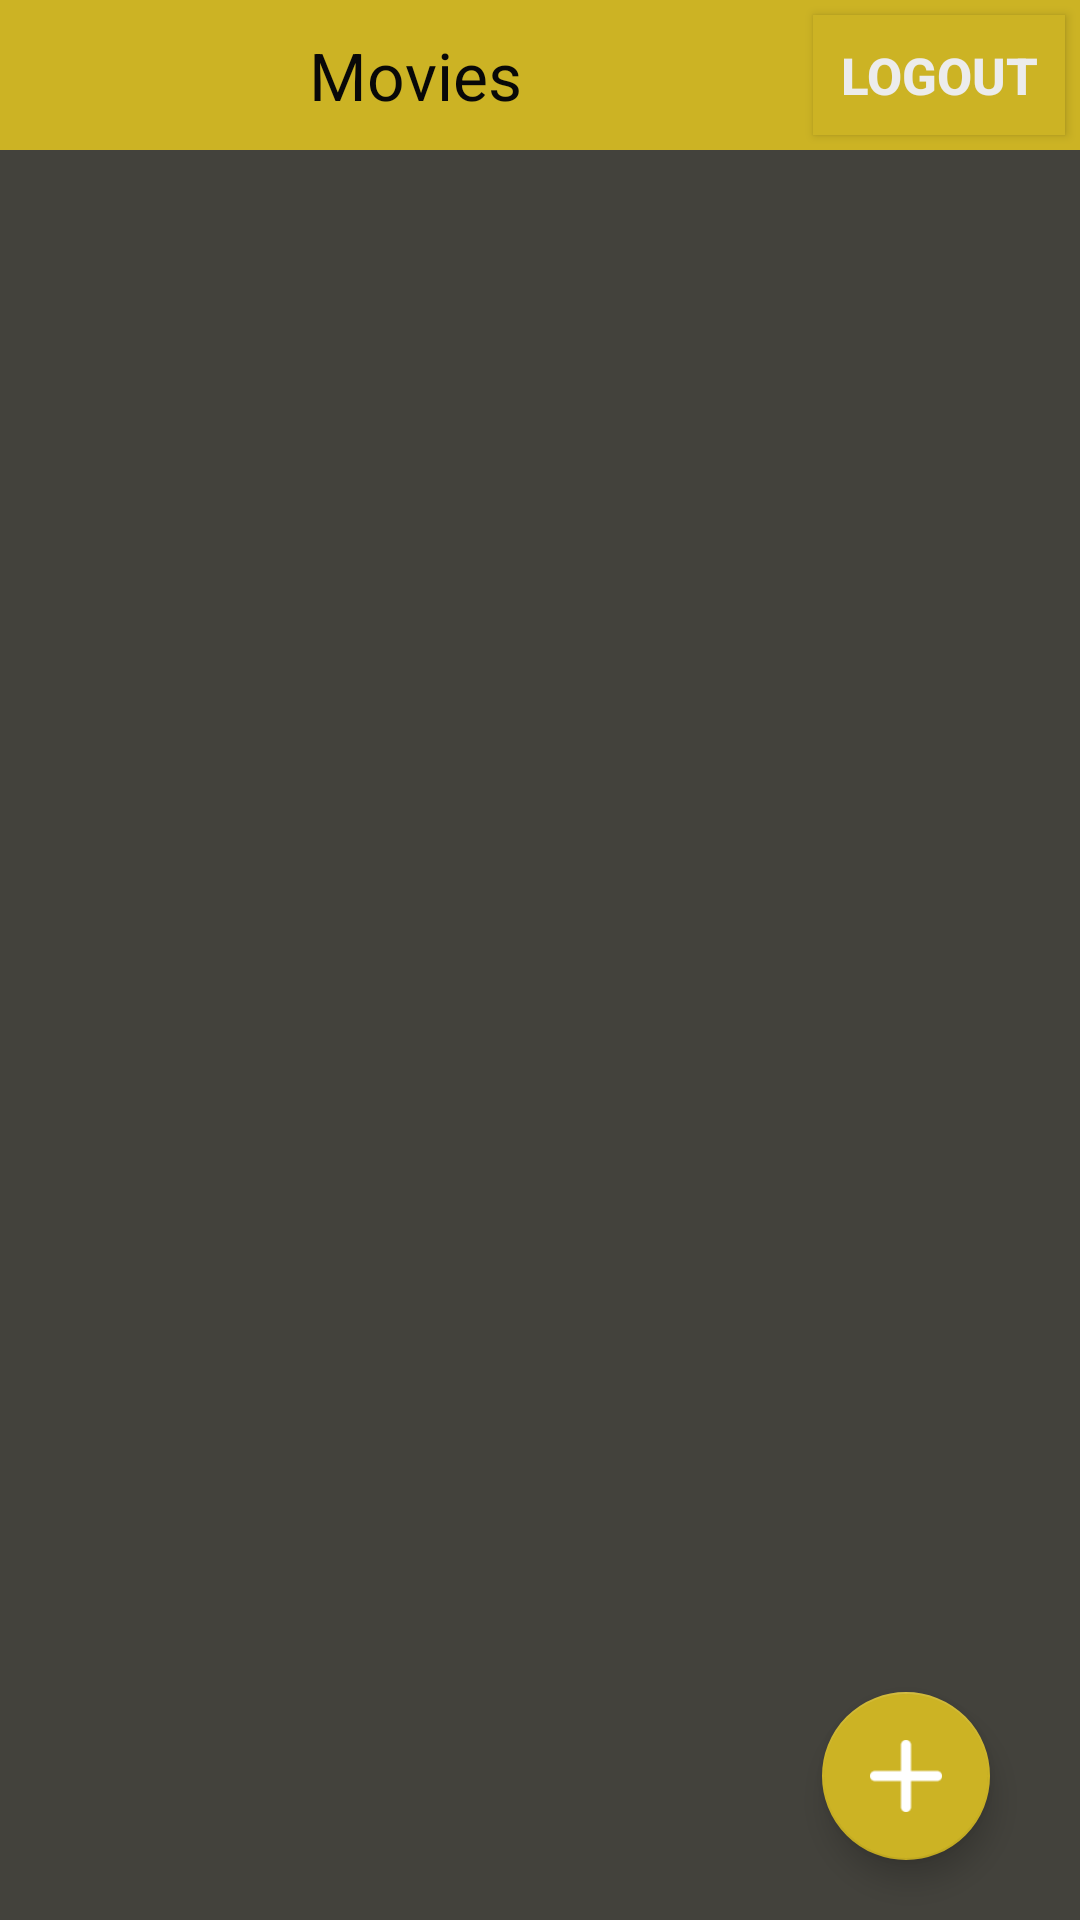

Icon bounding boxes for this 1080w x 1920h phone screenshot, format (x1, y1, x2, y2):
add: (822, 1692, 990, 1860)
